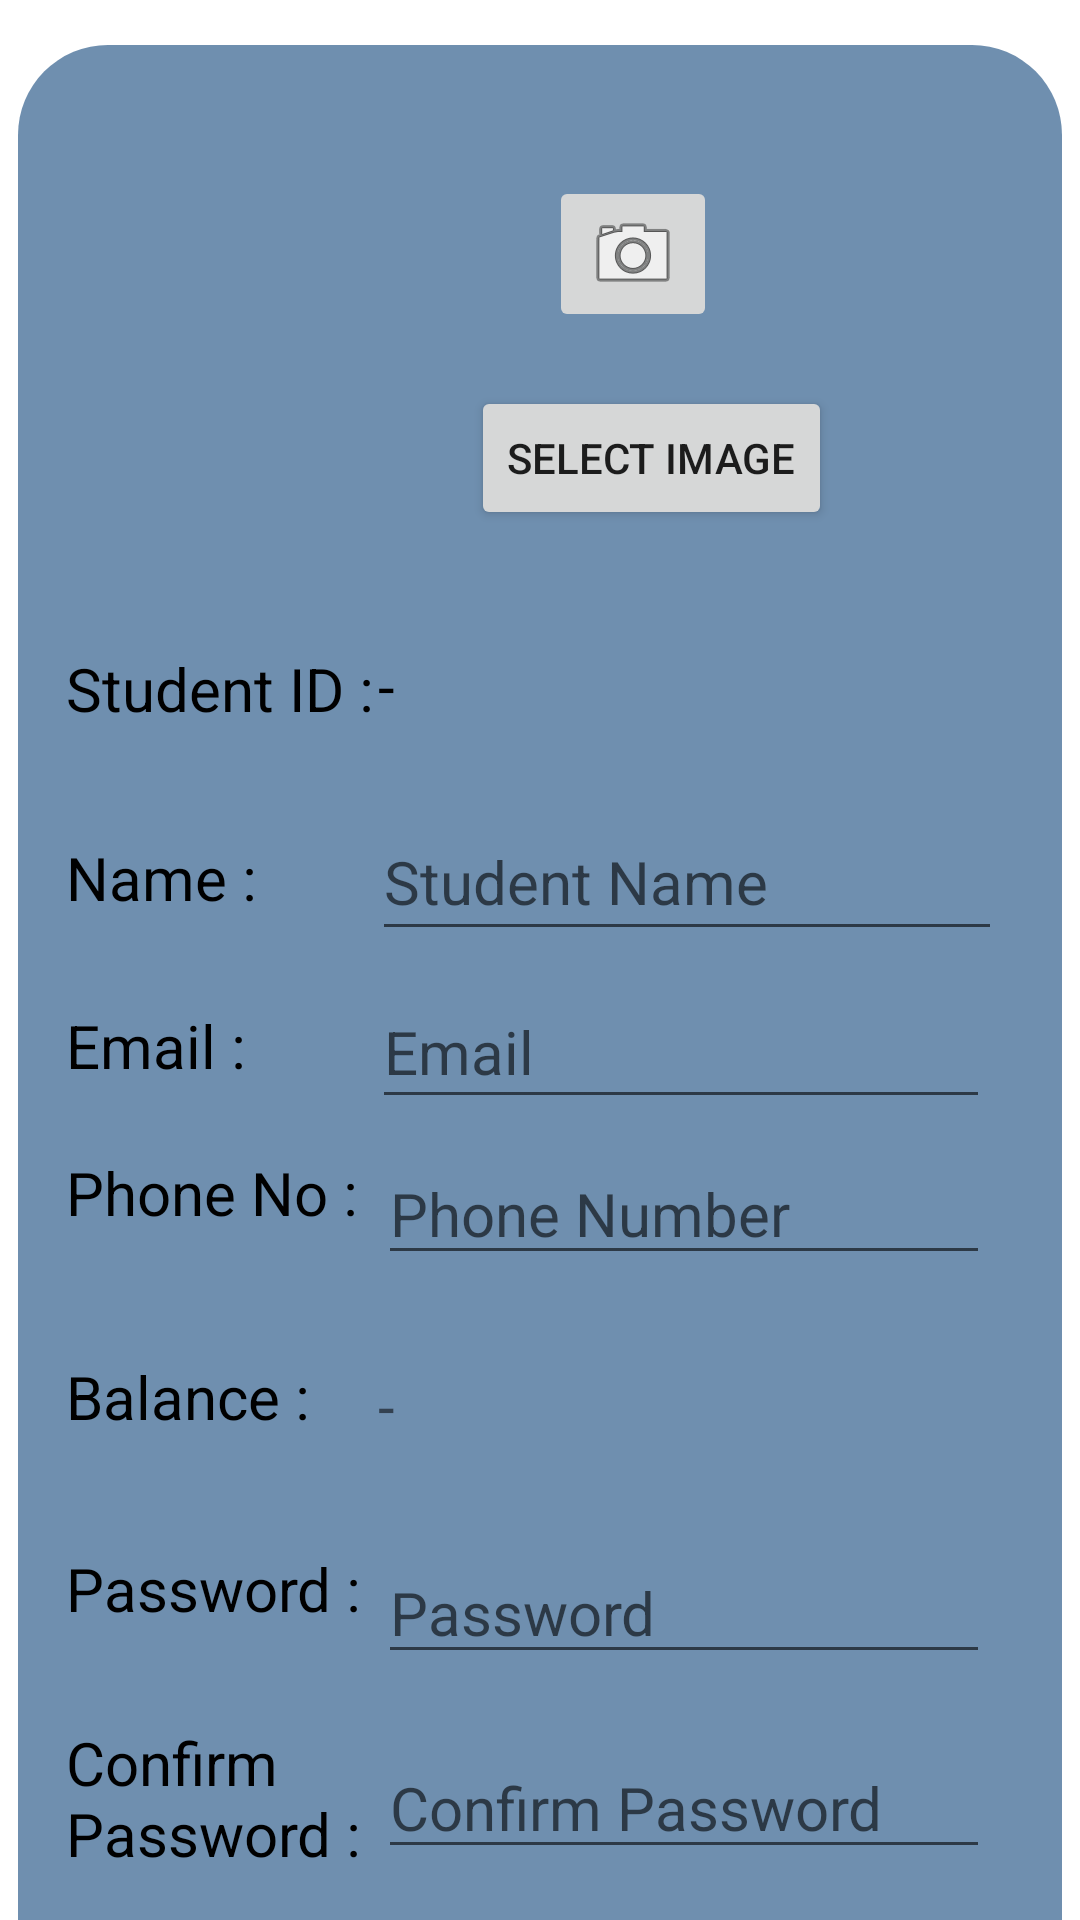

Named icons in this screenshot (1080px×1920px) and their bounding boxes, (x1, y1, x2, y2):
Camera: (561, 194, 705, 314)
